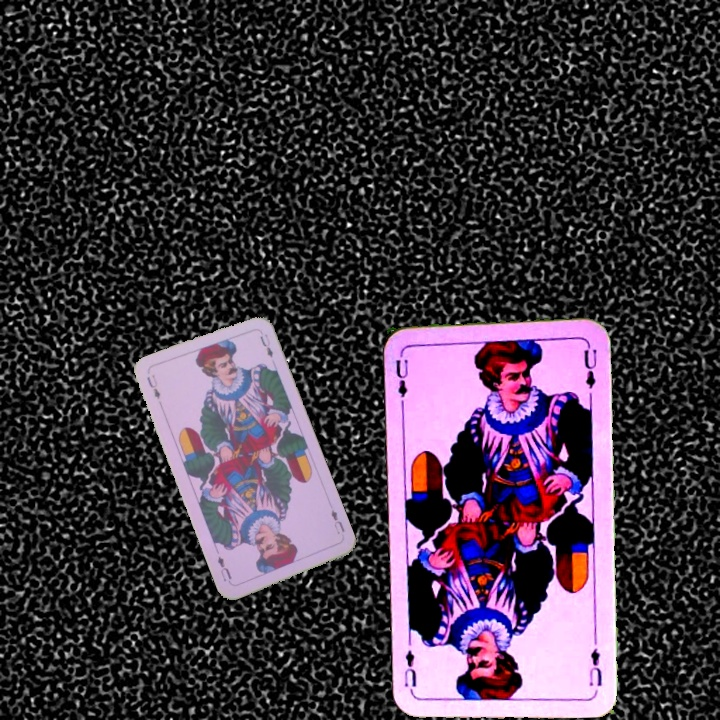EU: (391, 347, 411, 406), (585, 644, 605, 689), (327, 505, 347, 537), (143, 370, 163, 401)
